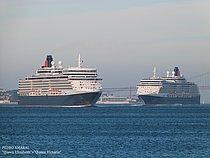Ship: (12, 52, 106, 110), (132, 64, 203, 108)
